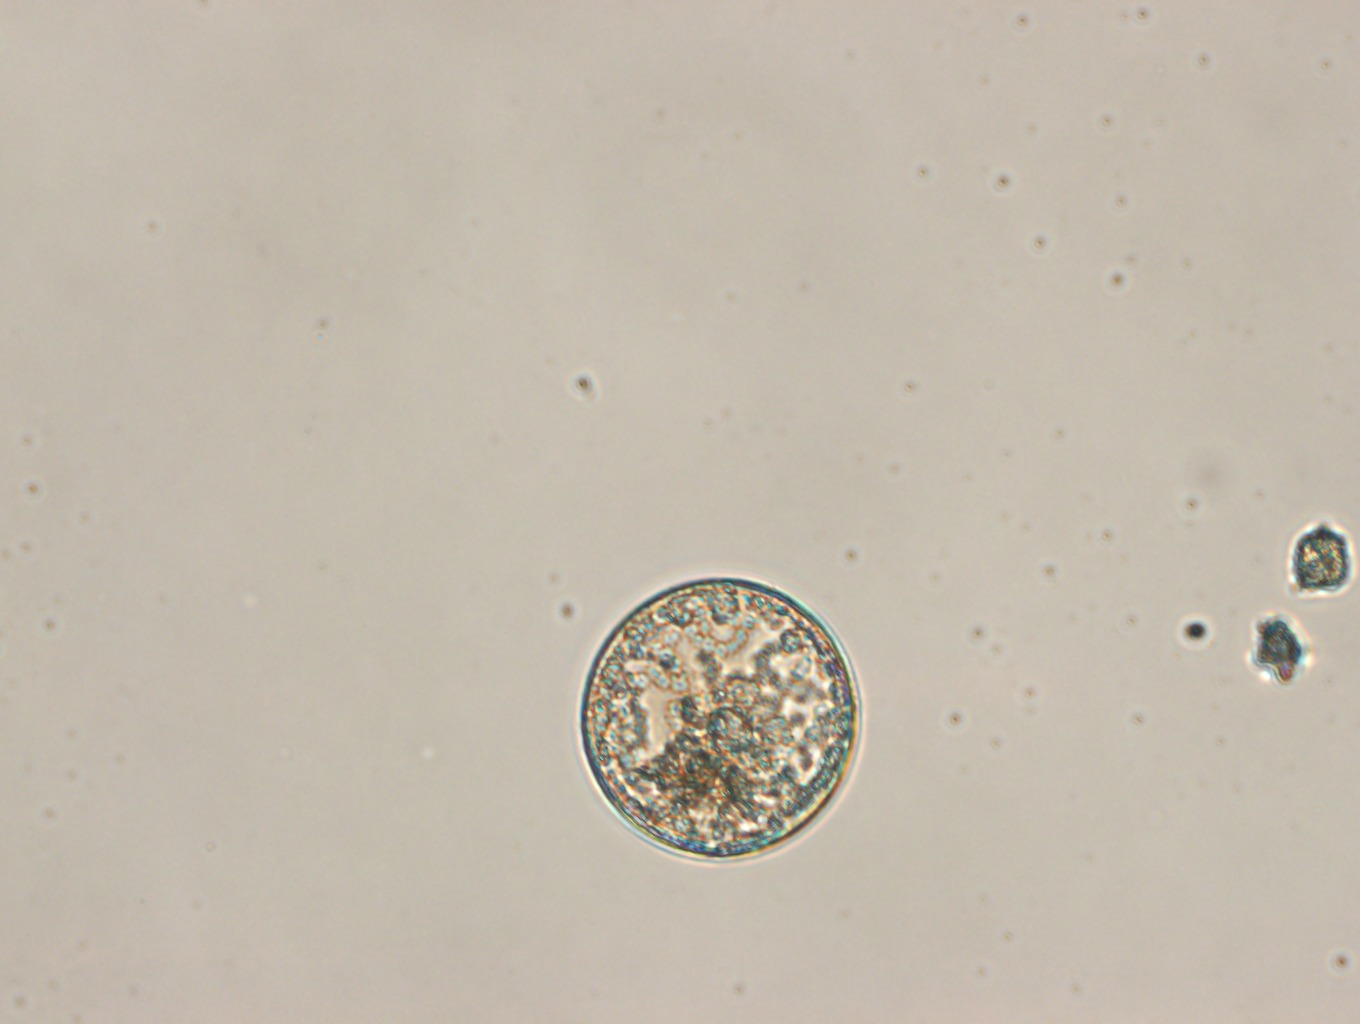coscinodiscus: (577, 574, 860, 863)
